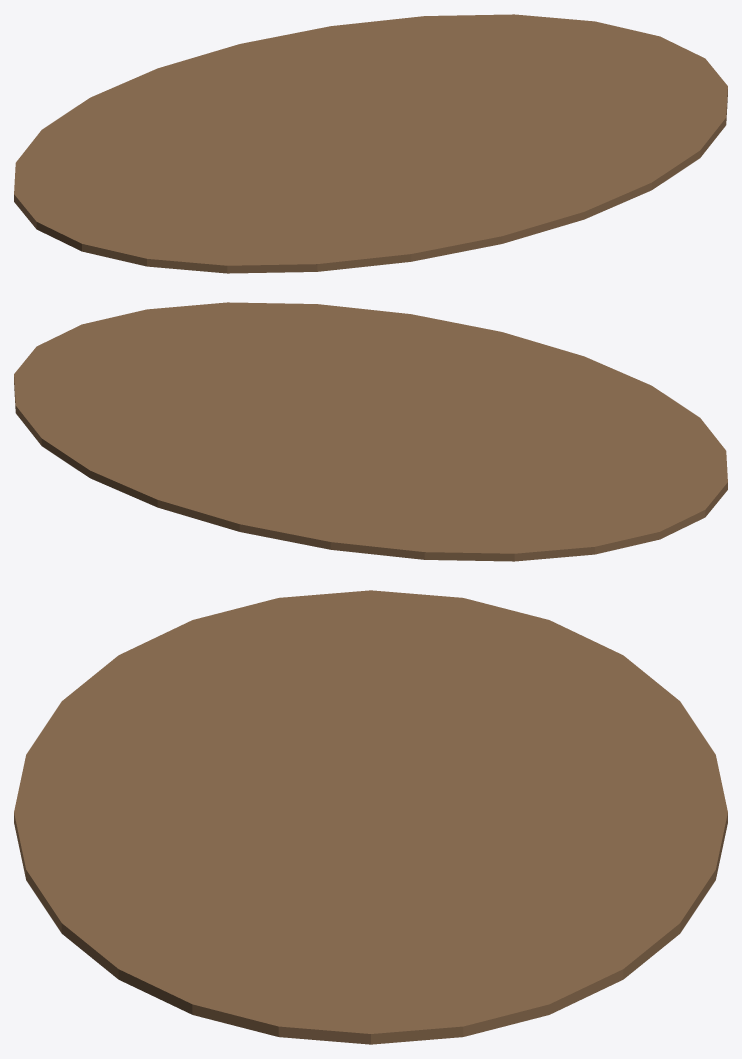
The model's file is mud_pit.glb.
The picture shows the model from 3 angles, top to bottom: view 1: azimuth 30°, elevation 25°; view 2: azimuth 150°, elevation 25°; view 3: azimuth 270°, elevation 25°; orthographic projection. The views are drawn at different scales.
Visible parts, largest first — view 1: Schlammloch; view 2: Schlammloch; view 3: Schlammloch.
Boxes of the visible parts, <box> form: Schlammloch: <box>14,14,727,273</box>; Schlammloch: <box>14,302,727,561</box>; Schlammloch: <box>14,590,727,1044</box>.
Bounding box in the file's own units: 1.8 × 0.02 × 1.22.
